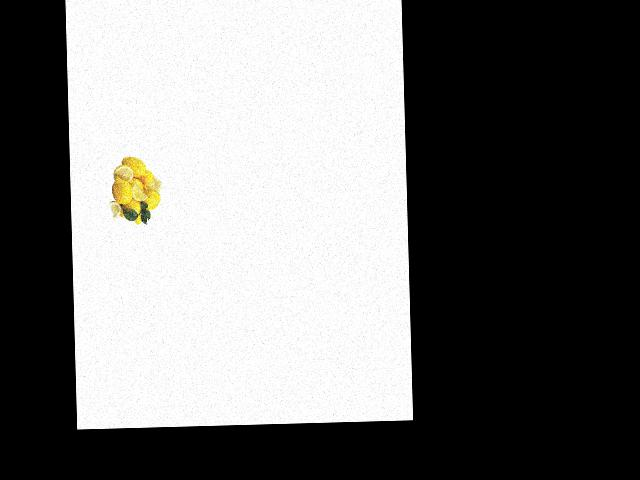lemon: (119, 195, 141, 219)
